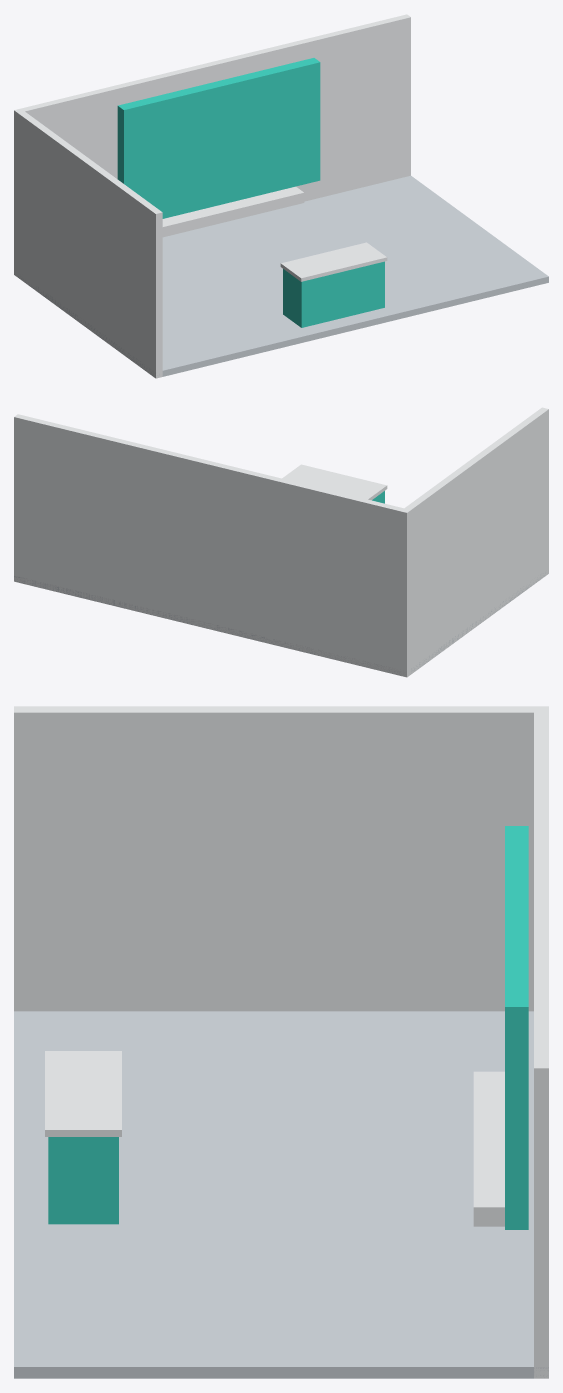
The picture shows the model from 3 angles, top to bottom: view 1: azimuth 30°, elevation 25°; view 2: azimuth 150°, elevation 25°; view 3: azimuth 270°, elevation 25°; orthographic projection. The views are drawn at different scales.
Parts seen in each view (by area): view 1: Exhibition Booth Concept; view 2: Exhibition Booth Concept; view 3: Exhibition Booth Concept.
Part boxes in pixels (x1,y1,x2,y2): Exhibition Booth Concept: (14,14,548,378); Exhibition Booth Concept: (14,407,548,677); Exhibition Booth Concept: (14,706,548,1378).
Bounding box in the file's own units: 8 × 3.2 × 5.
